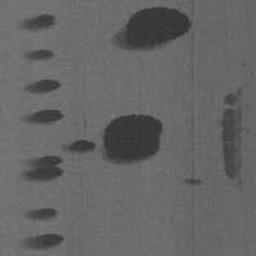Oil spot: (14, 111, 164, 184), (110, 5, 192, 52), (218, 83, 246, 195), (17, 232, 65, 252), (18, 108, 65, 127), (15, 13, 58, 33), (19, 78, 63, 96), (19, 206, 59, 224), (19, 49, 55, 64), (180, 177, 206, 187)
